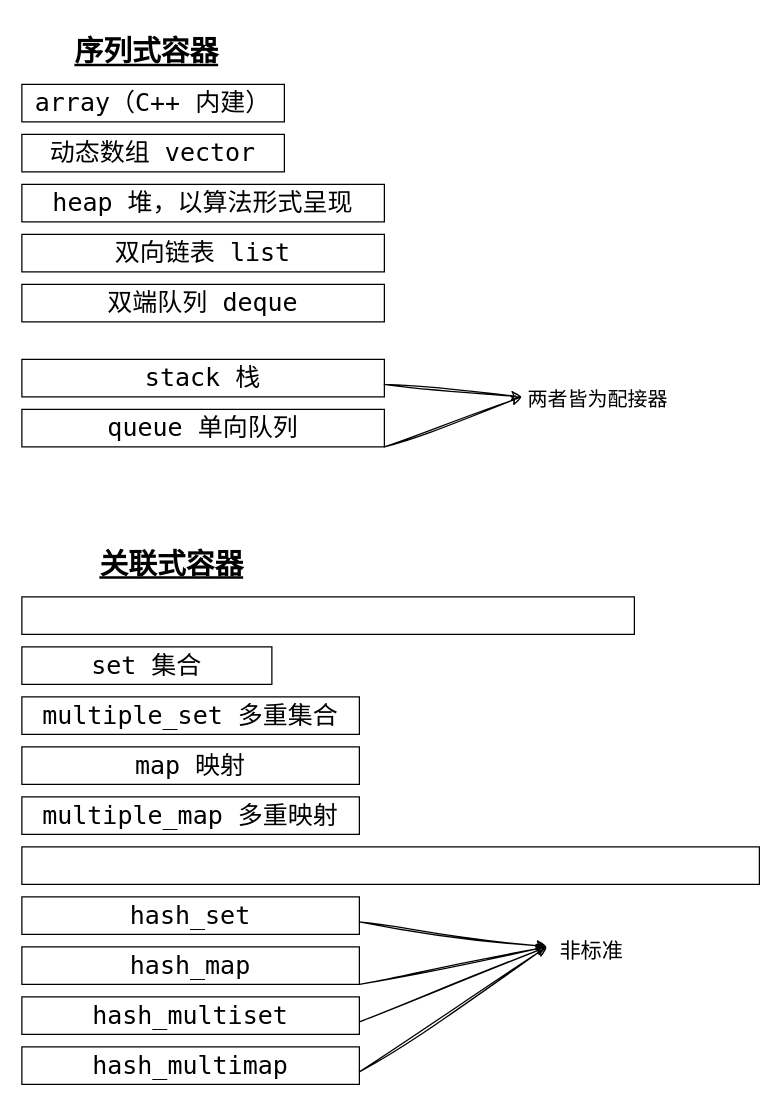
This 781x1106 diagram has some shape labels left out. The centre of each missing label's shape, as x and y in pixels:
"hash_table 哈希表，应该是 map set 等容器内部的数据结构" belongs at point (390, 865).
"RB-tree 红黑树，隐藏供其他 STL 容器使用" belongs at point (327, 615).
